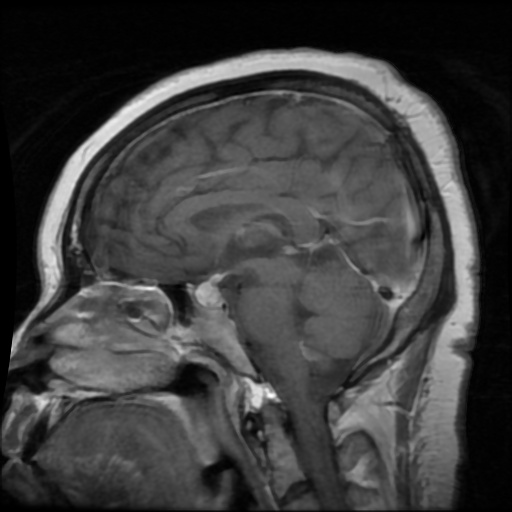pituitary: (195, 280, 226, 308)
